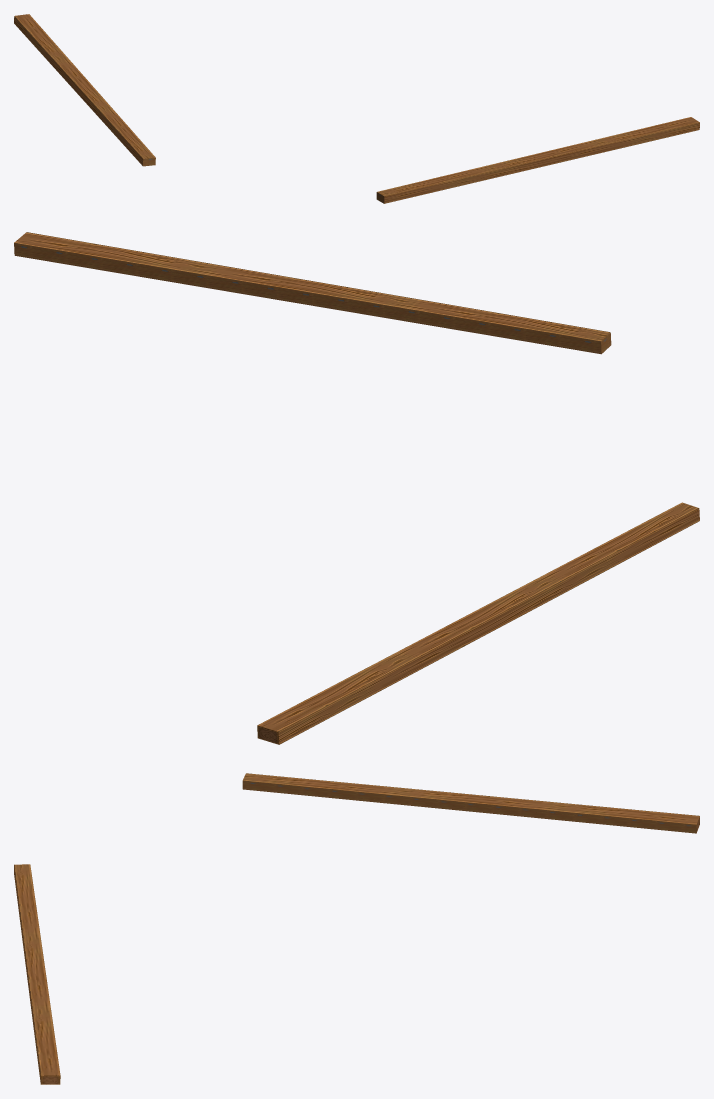
3 views of the same model, one above another, from view 1: azimuth 30°, elevation 25°; view 2: azimuth 150°, elevation 25°; view 3: azimuth 270°, elevation 25° (orthographic). The views are drawn at different scales.
Parts seen in each view (by area): view 1: Cube.736; view 2: Cube.736; view 3: Cube.736.
Part boxes in pixels (box(x1,y1,x2,y2)): Cube.736: box(14, 14, 699, 203); Cube.736: box(14, 232, 699, 744); Cube.736: box(14, 773, 699, 1084).
Size of the model in its own units: 1830 by 92.15 by 1884.
Materials: 1 (1 with a texture image).
